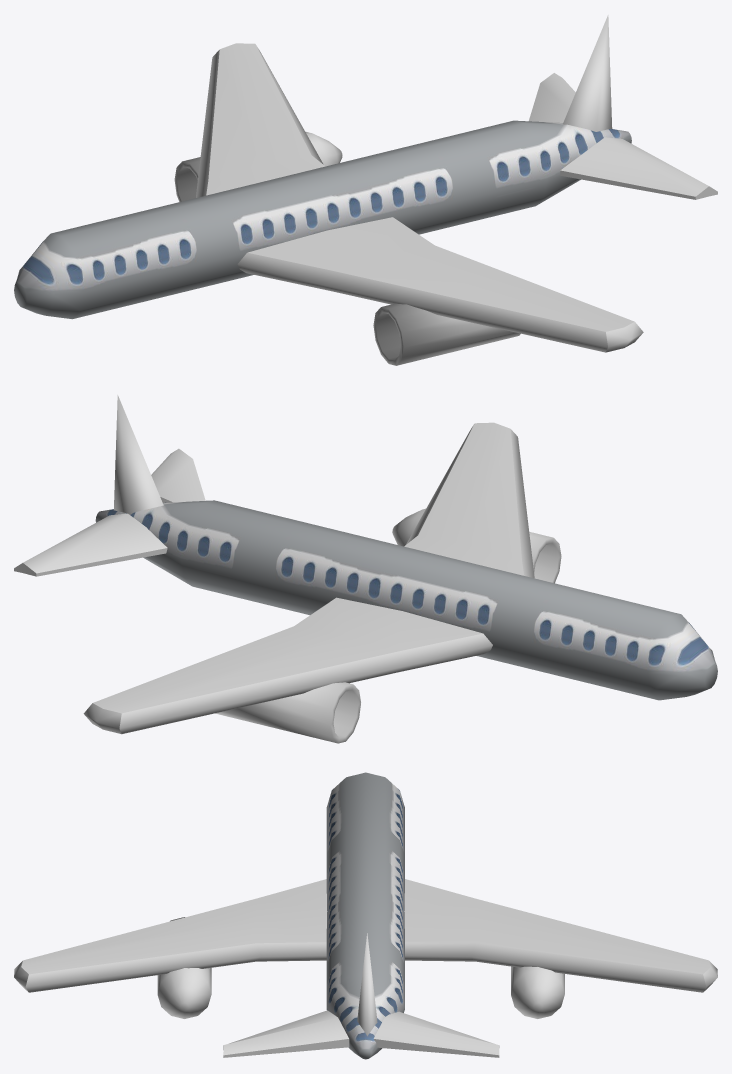
The model's file is Airplane.FBX.
3 views of the same model, one above another, from view 1: azimuth 30°, elevation 25°; view 2: azimuth 150°, elevation 25°; view 3: azimuth 270°, elevation 25° (orthographic). The views are drawn at different scales.
Visible parts, largest first — view 1: Cylinder001, Box009, Box007, Cylinder002, Box010, Box011, Box008, Cylinder003; view 2: Cylinder001, Box007, Box009, Cylinder003, Box008, Box011, Box010, Cylinder002; view 3: Cylinder001, Box007, Box009, Box010, Box008, Cylinder003, Cylinder002, Box011.
Boxes of the visible parts, x1,y1,x2,y2 form: Cylinder001: (14,120,631,319); Box009: (237,217,643,352); Box007: (196,43,325,197); Cylinder002: (373,303,520,365); Box010: (560,137,717,199); Box011: (563,15,612,131); Box008: (529,73,575,122); Cylinder003: (174,131,342,201); Cylinder001: (95,500,717,700); Box007: (83,597,492,734); Box009: (404,422,534,578); Cylinder003: (215,682,360,743); Box008: (14,513,167,576); Box011: (114,395,163,514); Box010: (151,448,205,502); Cylinder002: (392,508,561,583); Cylinder001: (326,772,404,1059); Box007: (404,879,717,992); Box009: (14,879,327,992); Box010: (223,1010,349,1057); Box008: (373,1011,499,1057); Cylinder003: (511,966,564,1018); Cylinder002: (157,917,211,1018); Box011: (357,933,377,1036).
Size of the model in its own units: 26.42 by 8.01 by 29.38.
